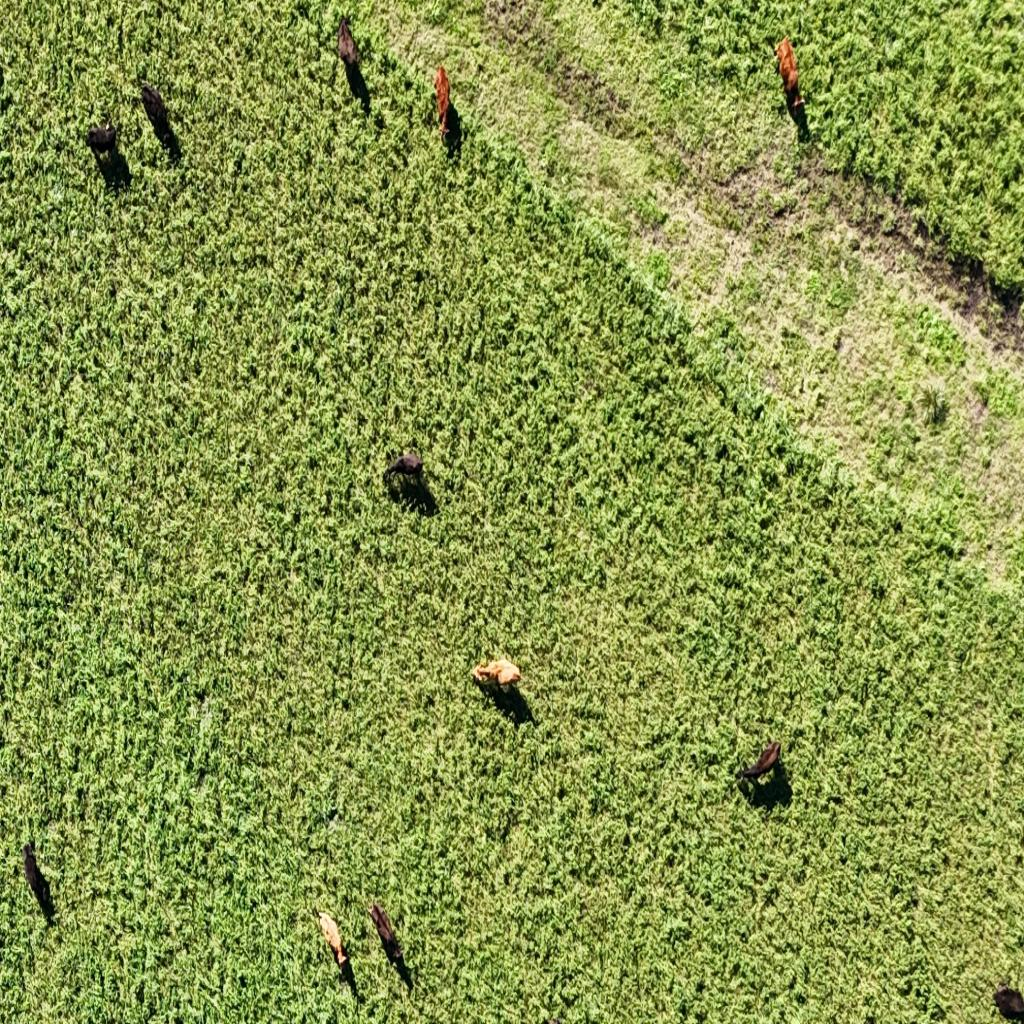cow: (770, 34, 806, 122), (368, 899, 404, 966), (472, 652, 523, 696), (22, 843, 50, 912), (738, 741, 781, 783), (382, 451, 424, 494), (317, 910, 347, 969), (140, 82, 169, 132), (86, 120, 117, 164), (337, 16, 360, 74), (992, 982, 1024, 1022), (434, 65, 450, 134)
